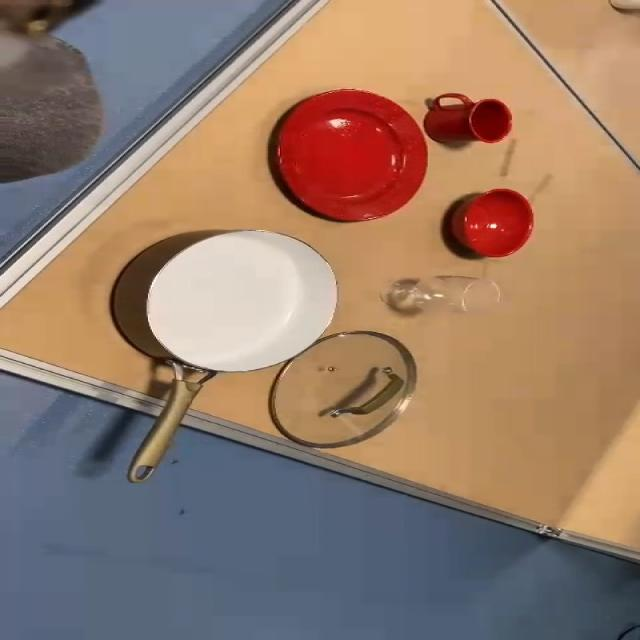Bowl: (452, 188, 536, 258)
Glass: (358, 275, 508, 318)
Plate: (268, 86, 434, 230)
cup: (425, 94, 517, 144)
pot: (107, 230, 340, 478)
